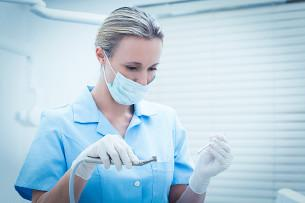WRONG: (109, 55, 159, 105)
